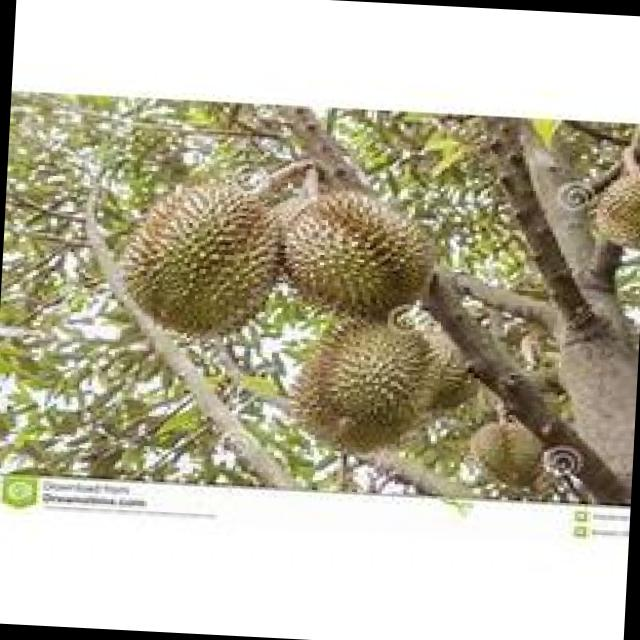fruit: (105, 154, 304, 362), (267, 172, 441, 346), (276, 296, 444, 468), (532, 288, 640, 503), (584, 159, 640, 259)
